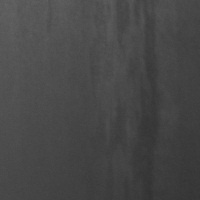inclusion: (107, 1, 161, 198)
